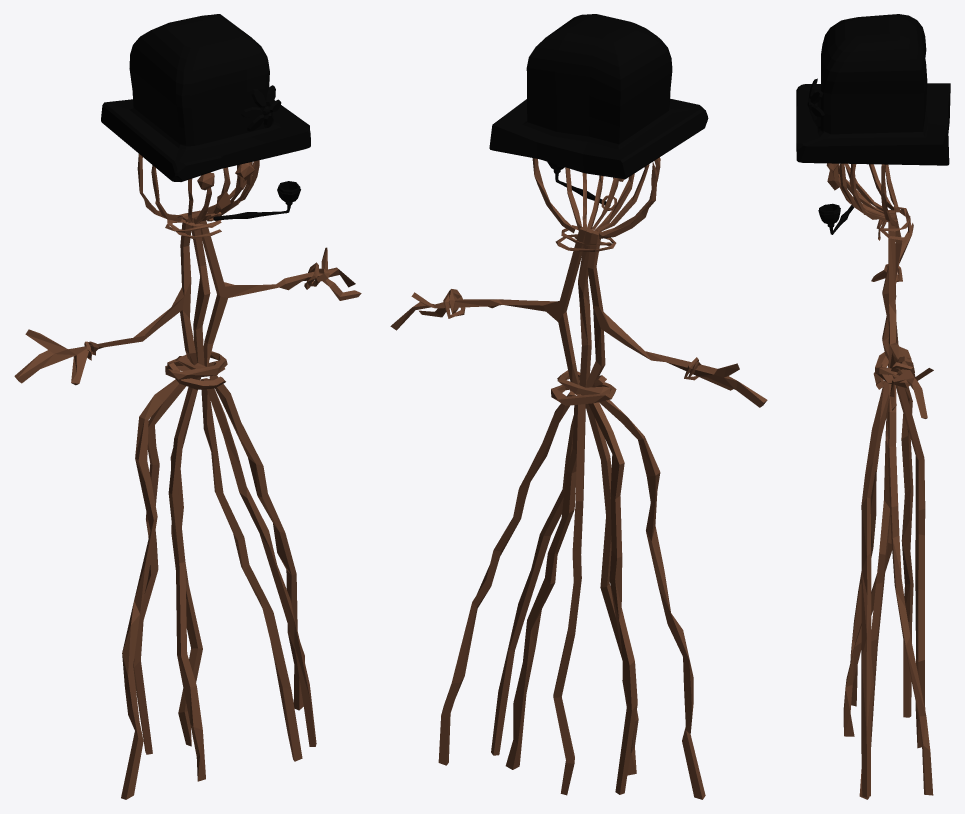
The model's file is Scarecrow_1.fbx.
3 views of the same model, side by side, from view 1: azimuth 30°, elevation 25°; view 2: azimuth 150°, elevation 25°; view 3: azimuth 270°, elevation 25° (orthographic). The views are drawn at different scales.
Parts seen in each view (by area): view 1: Scarecrow_1; view 2: Scarecrow_1; view 3: Scarecrow_1.
Boxes of the visible parts, <box> form: Scarecrow_1: <box>14,14,361,799</box>; Scarecrow_1: <box>390,14,767,799</box>; Scarecrow_1: <box>796,14,950,799</box>.
Size of the model in its own units: 22.01 by 44.9 by 8.6.
